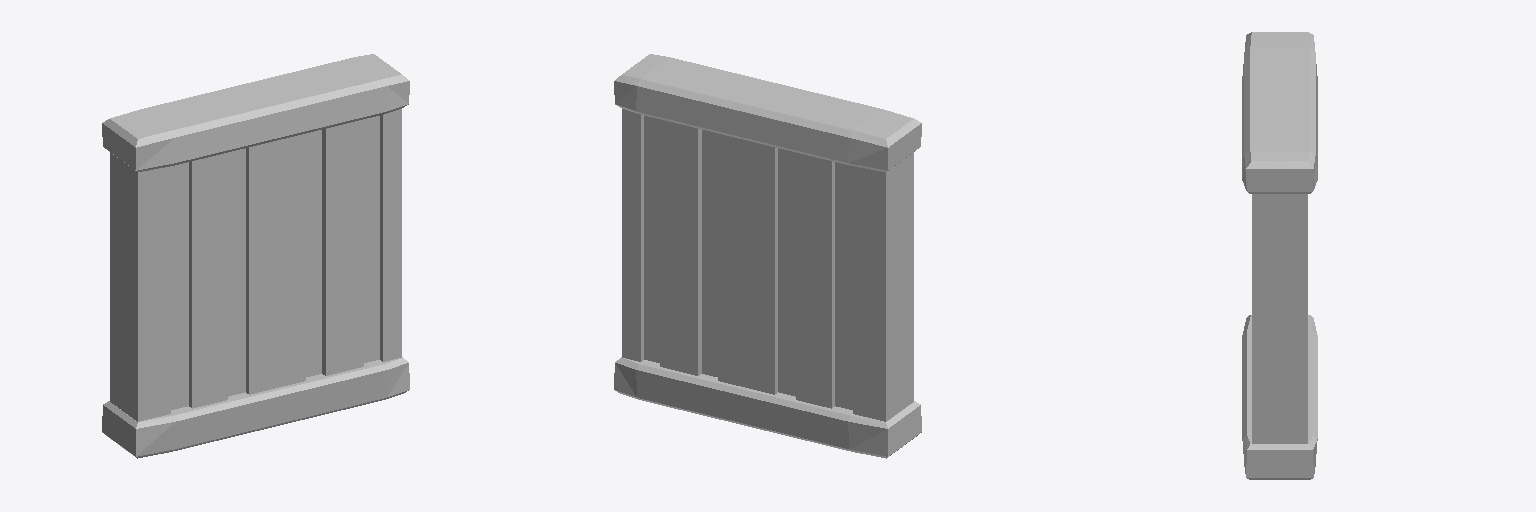
The model's file is StartGate.obj.
The picture shows the model from 3 angles: view 1: azimuth 30°, elevation 25°; view 2: azimuth 150°, elevation 25°; view 3: azimuth 270°, elevation 25°; orthographic projection.
Parts seen in each view (by area): view 1: gate; view 2: gate; view 3: gate.
Boxes of the visible parts, x1,y1,x2,y2 form: gate: [102, 54, 409, 458]; gate: [614, 54, 921, 458]; gate: [1242, 32, 1317, 479].
Bounding box in the file's own units: 5.59 × 6.25 × 1.33.